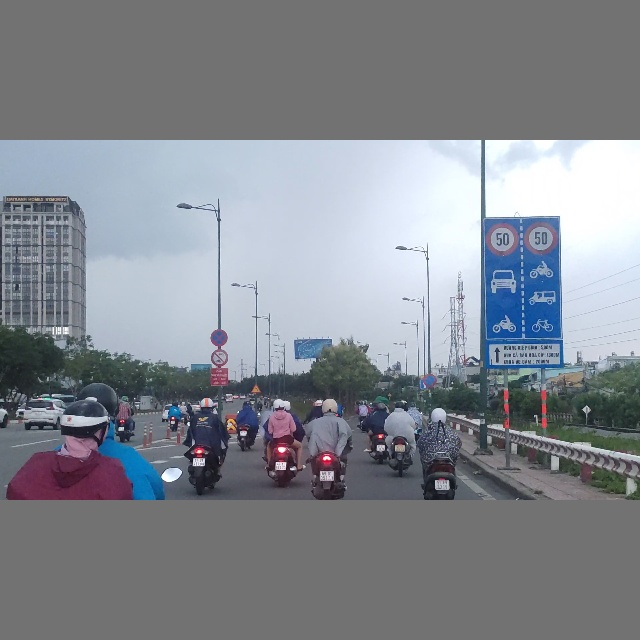P.111: (211, 349, 228, 366)
P.127*50: (486, 223, 520, 256), (524, 222, 557, 255)
P.130: (210, 329, 228, 347)
P.131a: (423, 374, 437, 387)
R.415a: (484, 257, 563, 339)
W.201a: (251, 384, 262, 393)
